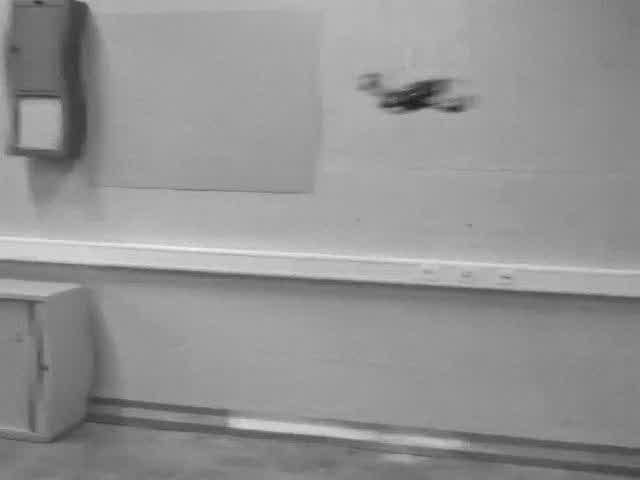drone: (358, 62, 486, 141)
